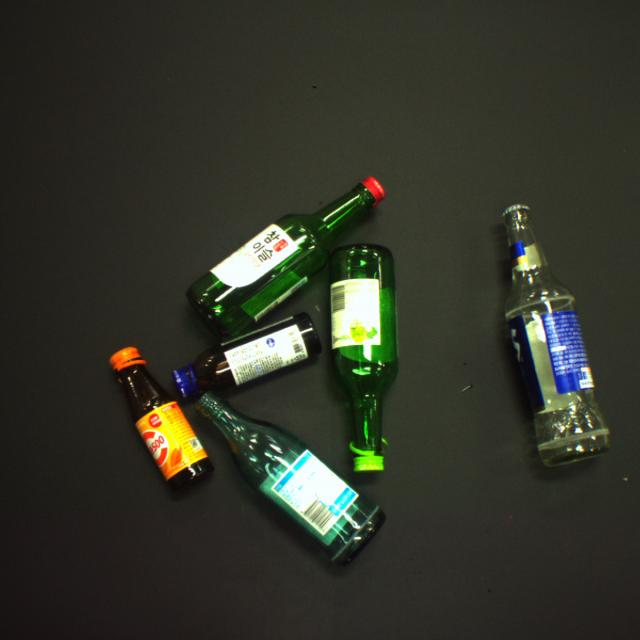beer-bottle: (502, 204, 610, 465)
soju-bottle: (186, 176, 385, 343), (194, 392, 385, 565), (329, 244, 400, 472)
